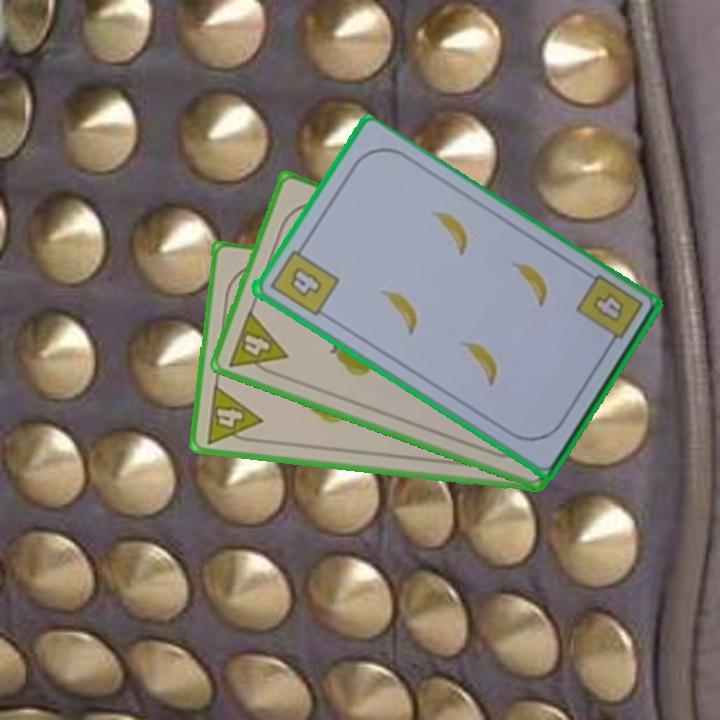4b: (265, 239, 341, 319), (588, 289, 627, 322)
4p: (224, 306, 291, 381), (202, 381, 265, 447)
